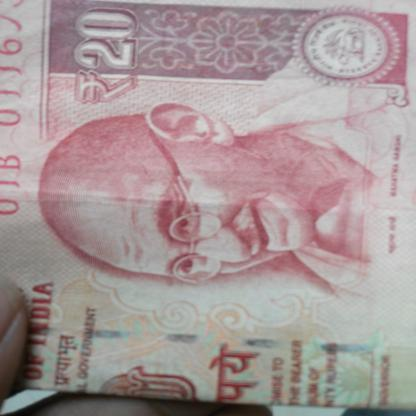Old20Front: (0, 1, 416, 392)
